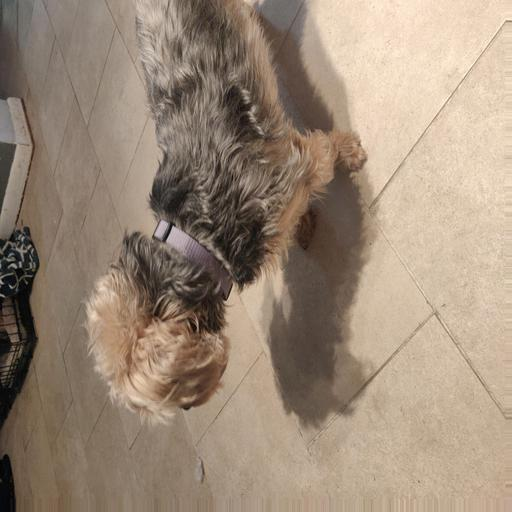dog: (81, 123, 363, 405)
